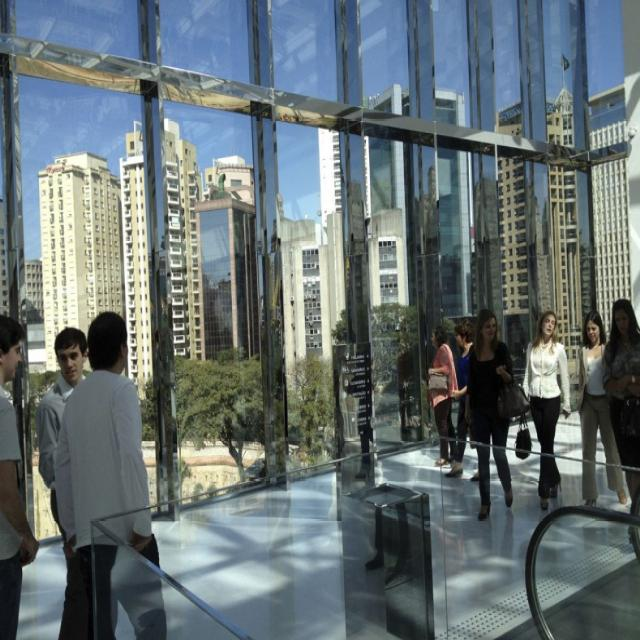body: (52, 306, 170, 639), (33, 324, 90, 640), (461, 300, 532, 528), (0, 311, 39, 640), (353, 483, 476, 574), (575, 308, 628, 508), (522, 309, 572, 512), (475, 512, 639, 572), (599, 294, 639, 532), (444, 317, 480, 483), (425, 322, 459, 468), (454, 456, 538, 483), (418, 441, 441, 466)
